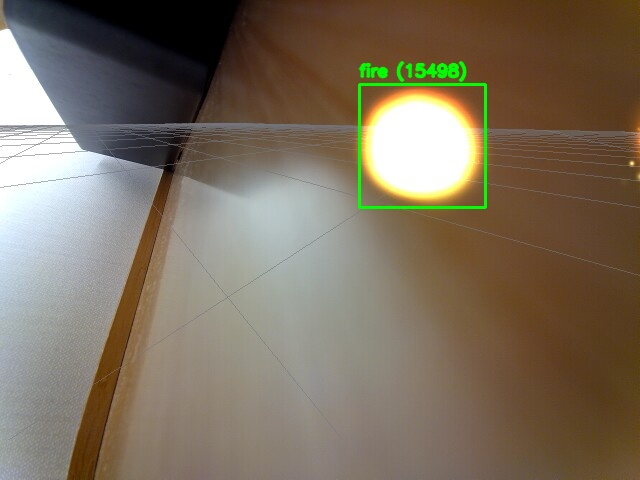fire: (359, 84, 485, 207)
